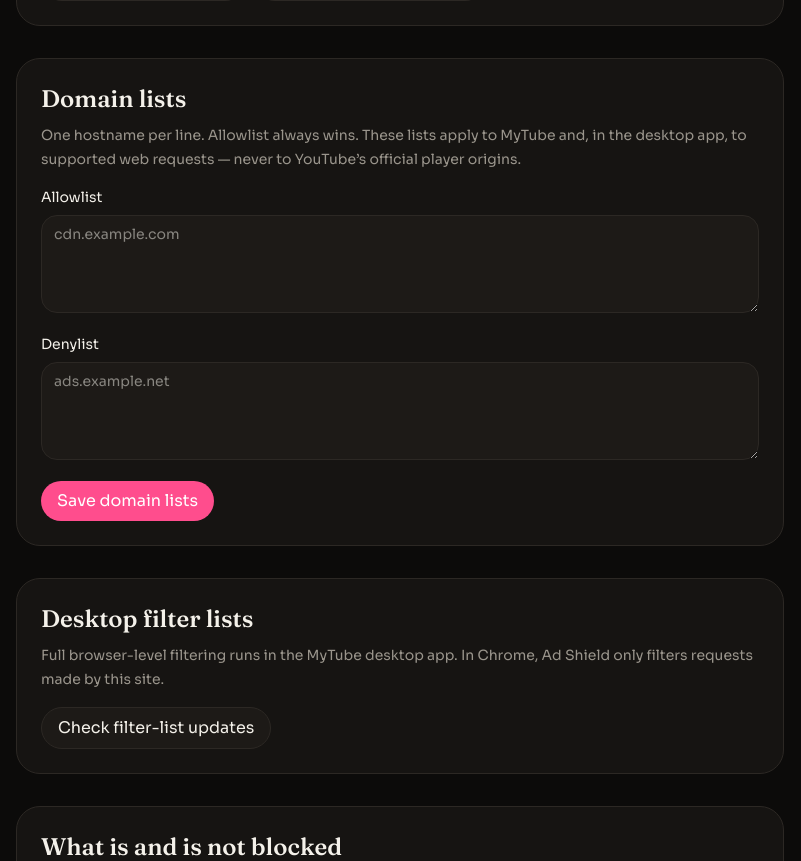
Ad Shield settings accessibility › validates custom domains before saving
This screenshot has width=801, height=861.
(page scrolled)
Type "not a domain" into the text box labelled "Denylist". click: (400, 411)
box: [41,362,759,460]
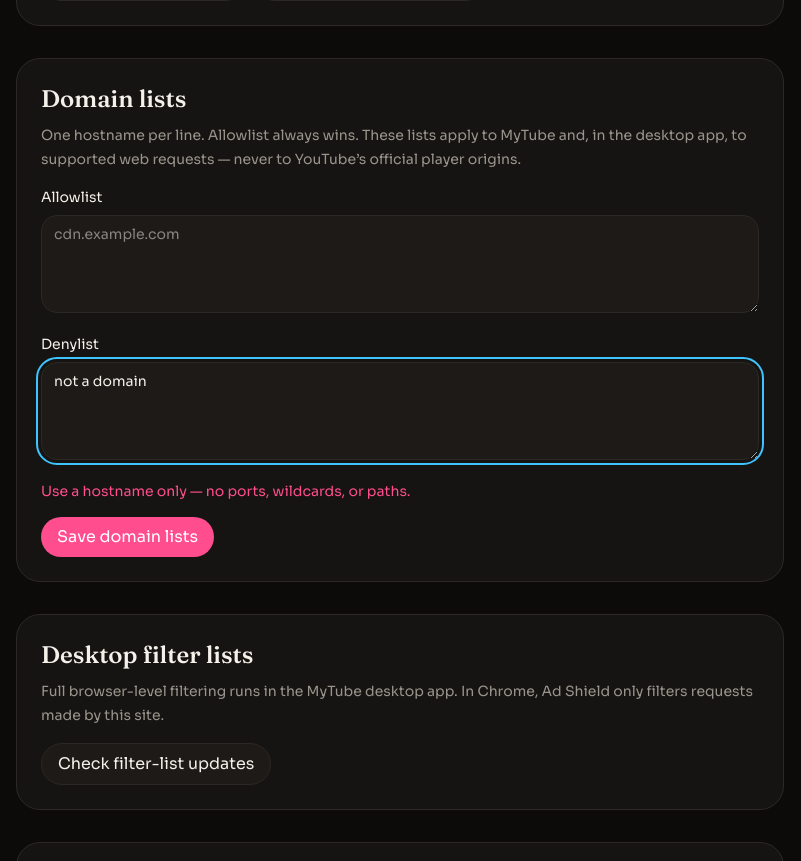
Click the button "Save domain lists". click: (128, 537)
box: [41,517,214,557]
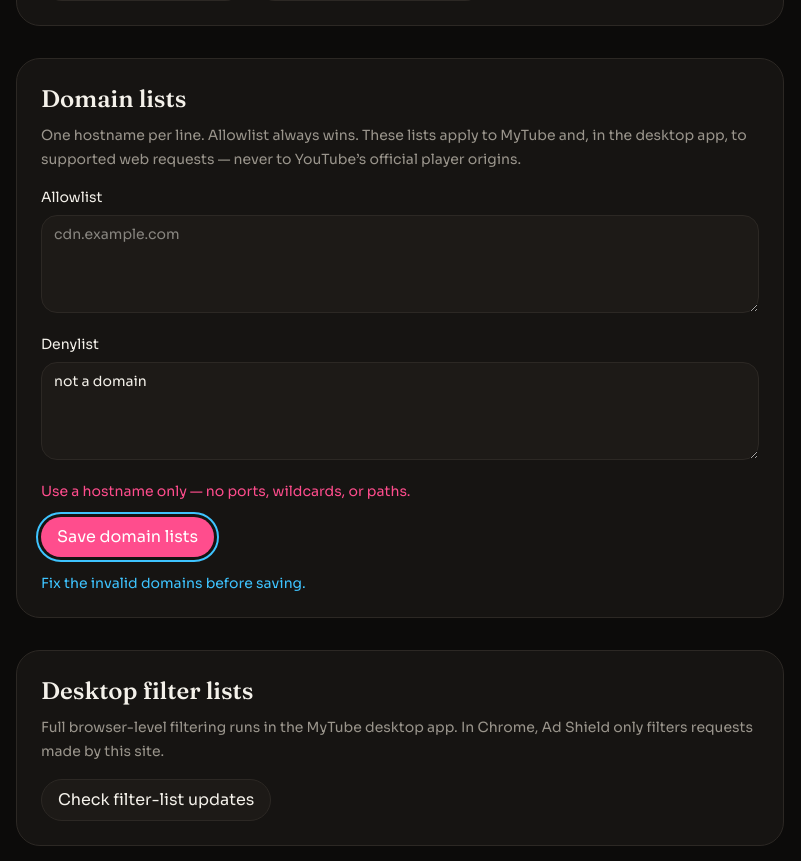
Expected: the text "Fix the invalid domains before saving." is shown, [41,574,306,592]
